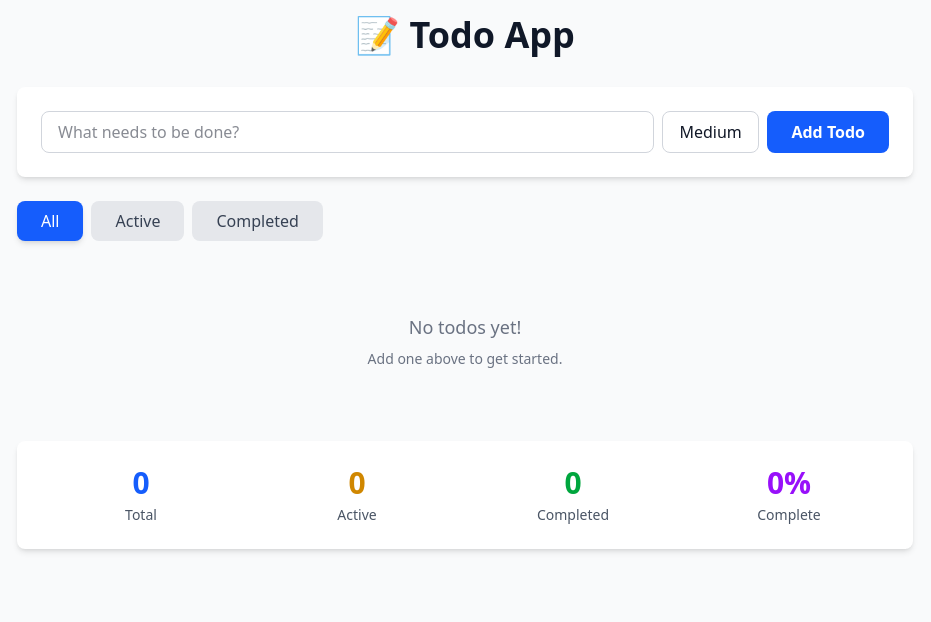
Test case: Todo App - E2E Tests › Power User Workflows › can manage todos with different priorities
The image size is (931, 622).
Note: Add high priority
Select "High" in the dropdown with test id "priority-select" at (712, 132), box [663,111,760,153]
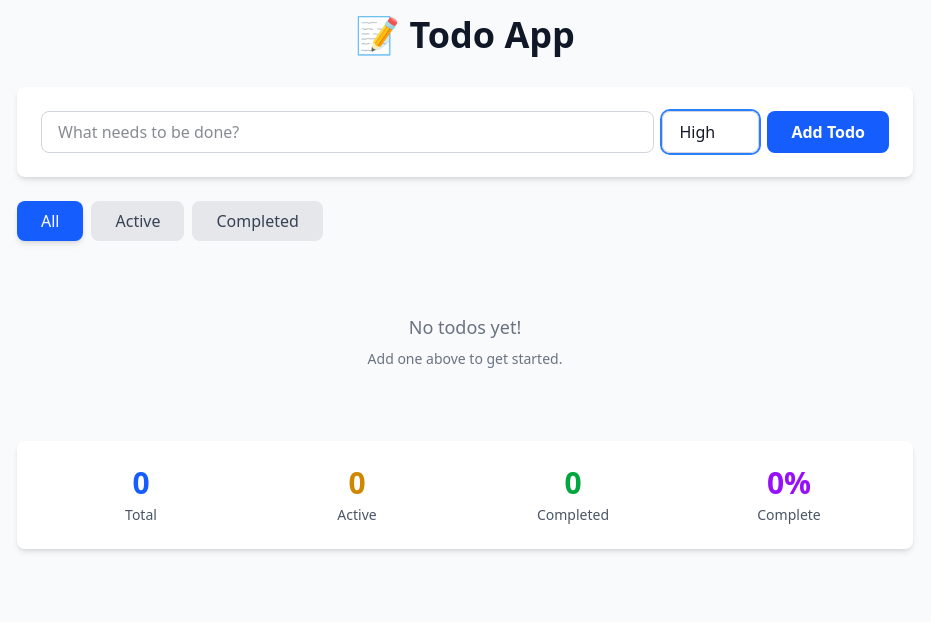
Type "Critical bug" into the field with placeholder "What needs to be done?" at (348, 132), box [58,120,638,144]
Then press Enter
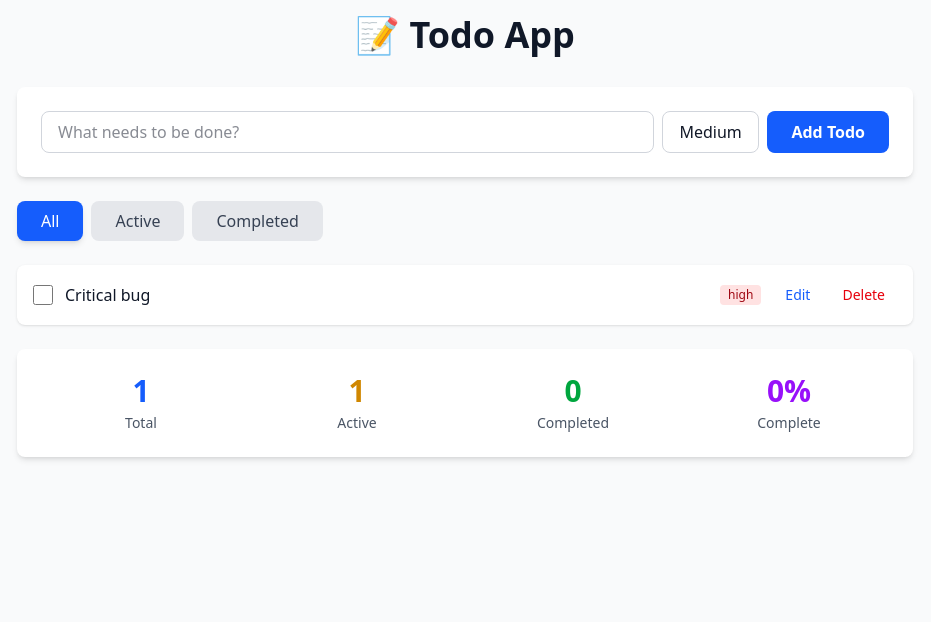
Note: Add medium priority
Select "Medium" in the dropdown with test id "priority-select" at (712, 132), box [663,111,760,153]
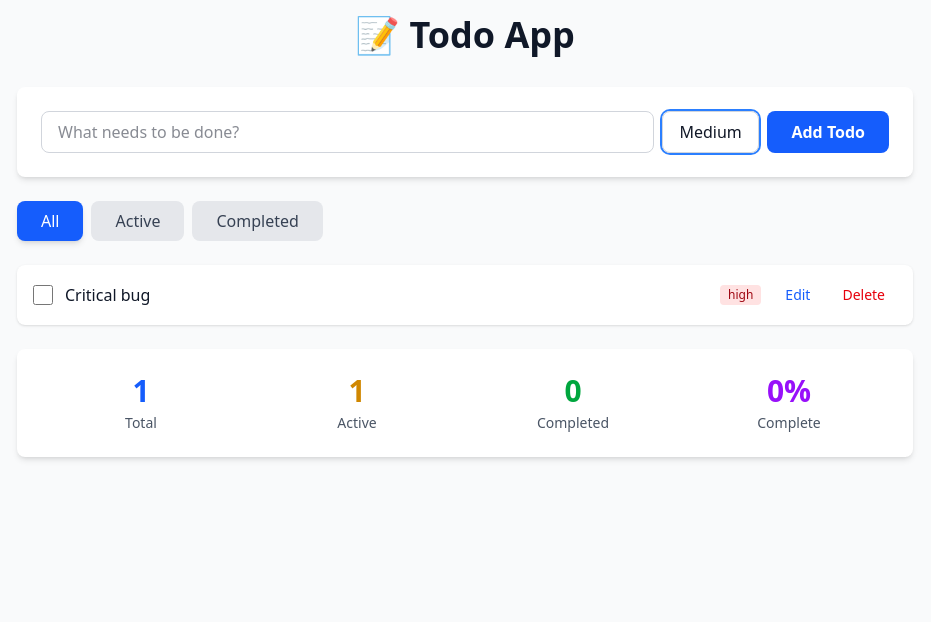
Type "Code review" into the field with placeholder "What needs to be done?" at (348, 132), box [58,120,638,144]
Then press Enter
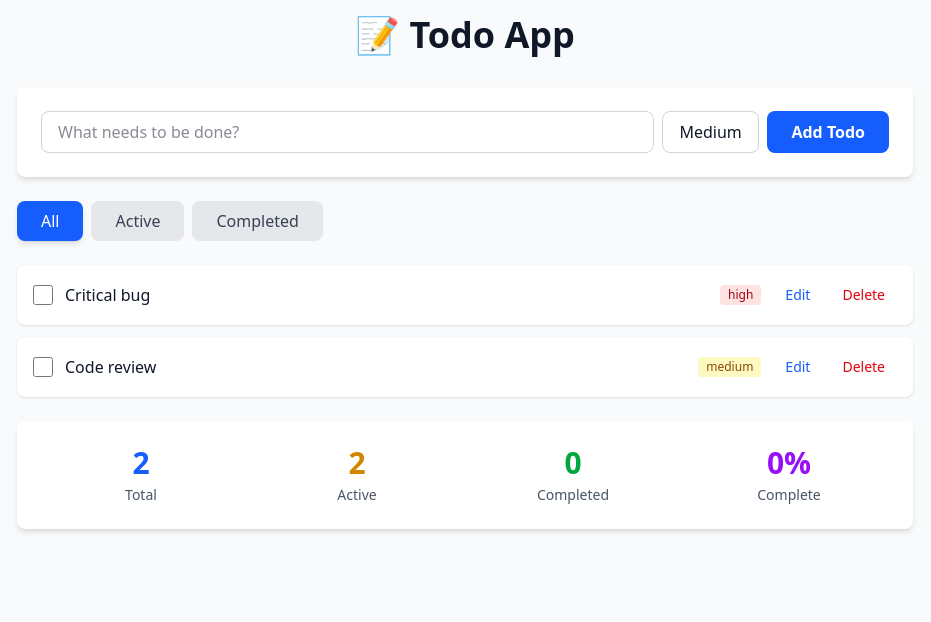
Note: Add low priority
Select "Low" in the dropdown with test id "priority-select" at (712, 132), box [663,111,760,153]
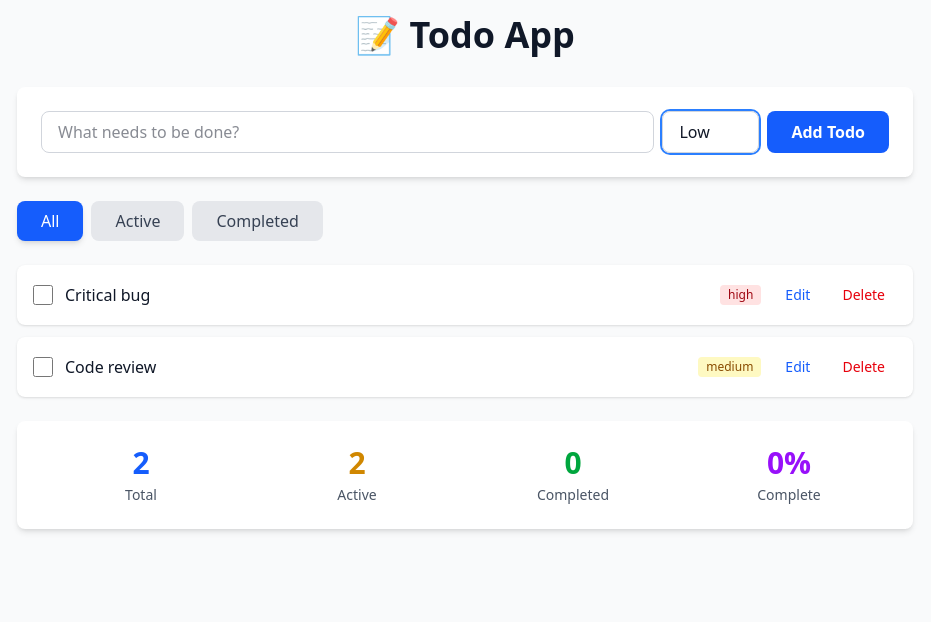
Type "Update docs" into the field with placeholder "What needs to be done?" at (348, 132), box [58,120,638,144]
Then press Enter
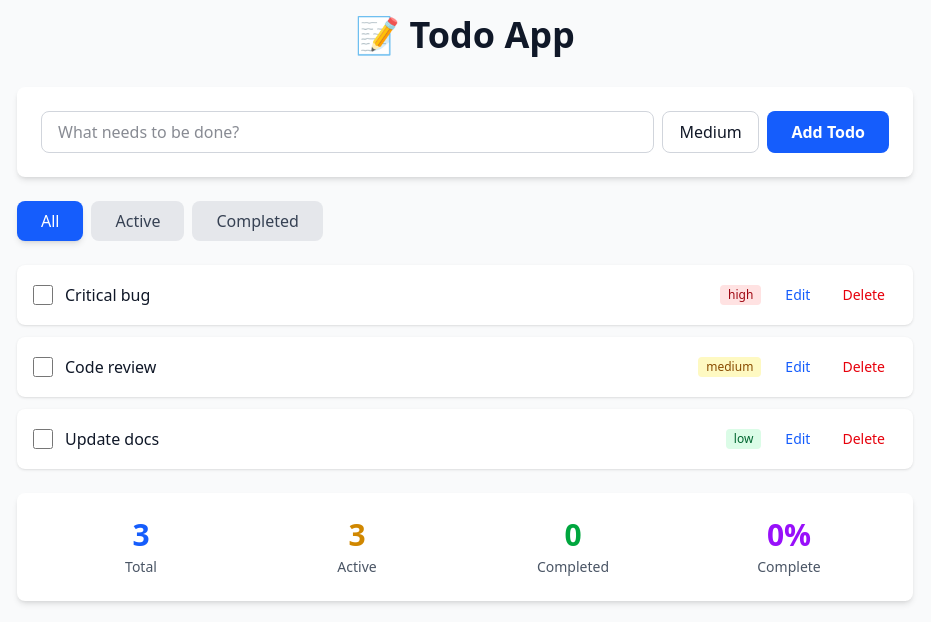
Now the text "high" is shown, box [720,285,761,305]
Now the text "medium" is shown, box [698,357,761,377]
Now the number of elements with test id "todo-priority" is 3, box [720,285,761,305]; [698,357,761,377]; [726,429,761,449]
